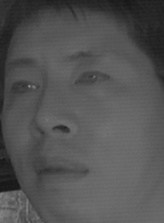eye: (72, 65, 115, 94), (5, 75, 40, 99)
mouth: (30, 151, 92, 190)
